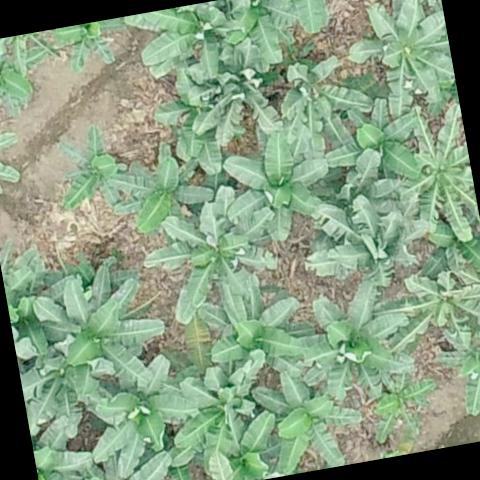Banana-plant: (136, 186, 289, 327), (281, 274, 421, 404), (29, 257, 172, 383), (75, 349, 202, 480), (213, 123, 338, 247), (296, 187, 436, 296), (343, 0, 460, 123), (388, 97, 480, 251), (255, 365, 370, 478), (273, 48, 377, 158), (195, 272, 307, 374), (183, 38, 285, 148), (320, 95, 424, 189), (374, 263, 480, 354), (167, 362, 266, 458), (108, 148, 216, 234), (126, 0, 239, 77), (17, 346, 104, 444), (0, 239, 60, 362), (53, 125, 123, 216), (371, 364, 444, 446), (219, 0, 305, 68), (201, 414, 286, 480), (432, 321, 480, 422), (0, 41, 53, 131), (48, 18, 128, 76), (29, 416, 99, 480), (79, 451, 175, 480)
